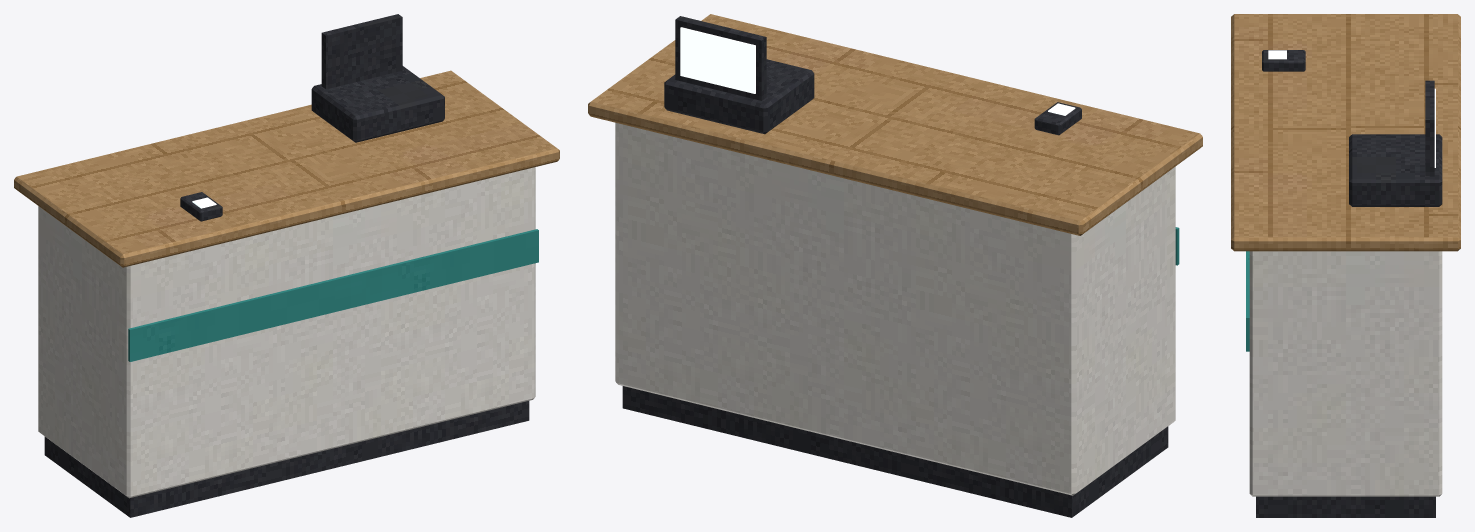
3 renders of one model, left to right at view 1: azimuth 30°, elevation 25°; view 2: azimuth 150°, elevation 25°; view 3: azimuth 270°, elevation 25°, orthographic. The views are drawn at different scales.
Visible parts, largest first — view 1: Decor_checkout_counter; view 2: Decor_checkout_counter; view 3: Decor_checkout_counter.
Boxes of the visible parts, bbox=[...] form: Decor_checkout_counter: bbox=[14, 14, 559, 517]; Decor_checkout_counter: bbox=[588, 14, 1202, 517]; Decor_checkout_counter: bbox=[1231, 14, 1460, 517].
Bounding box in the file's own units: 1.72 × 1.33 × 0.7401.
Materials: 5 (4 with a texture image).
